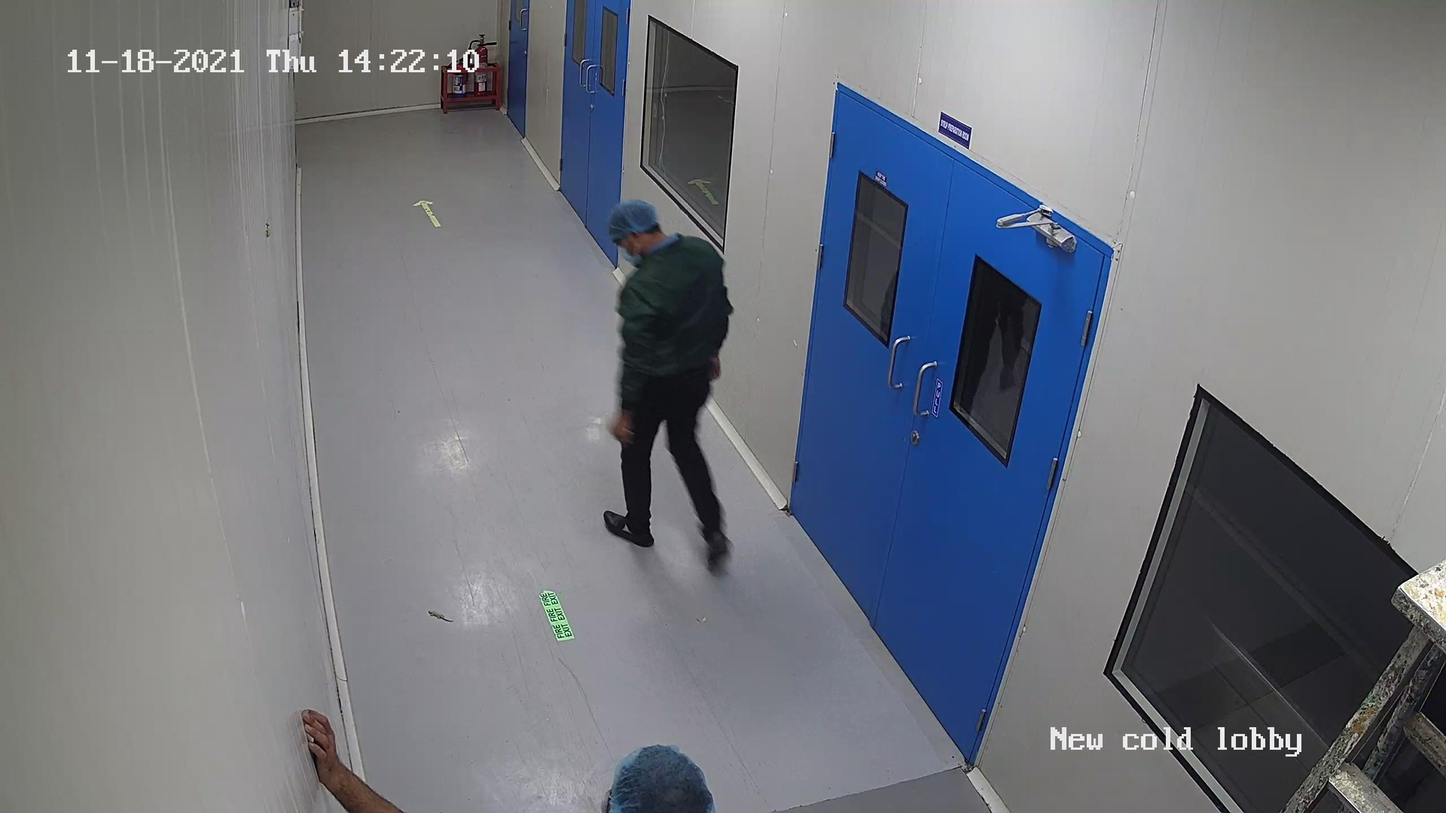lizard: (421, 604, 453, 625)
